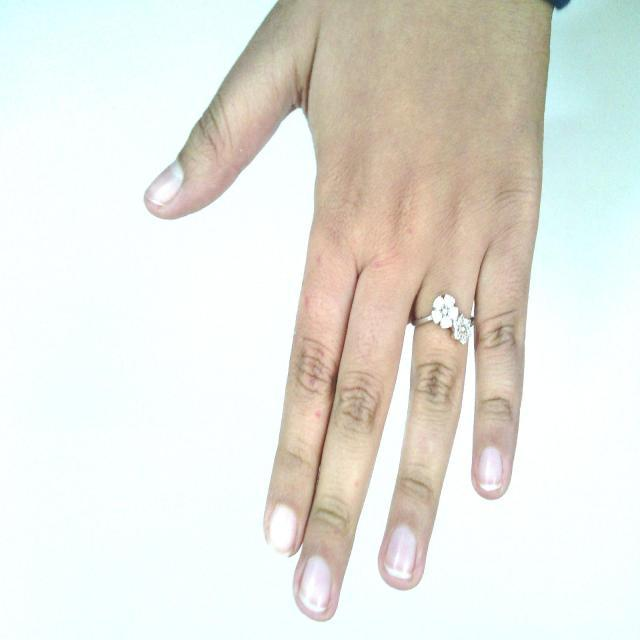Fingernail: (298, 556, 331, 613), (384, 527, 416, 578), (147, 164, 183, 204), (270, 506, 297, 554), (476, 447, 502, 489)
